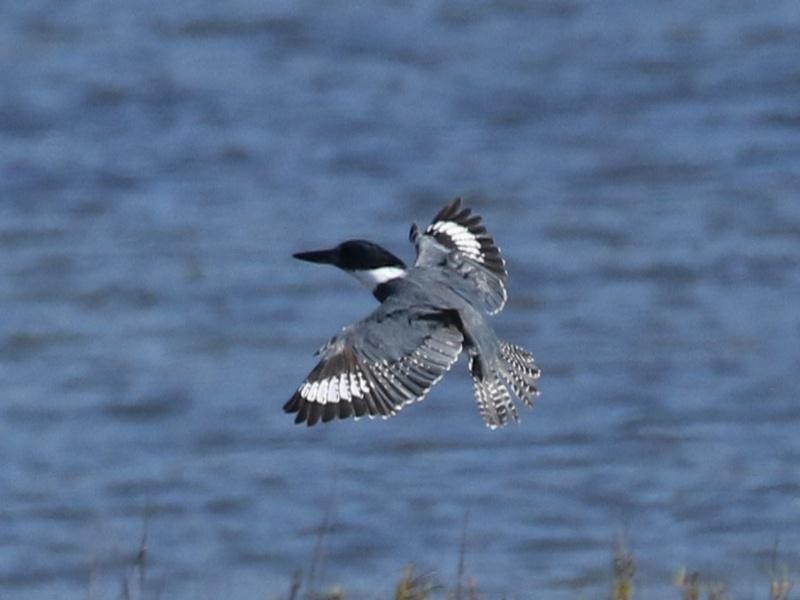kingfisher: (280, 196, 545, 435)
